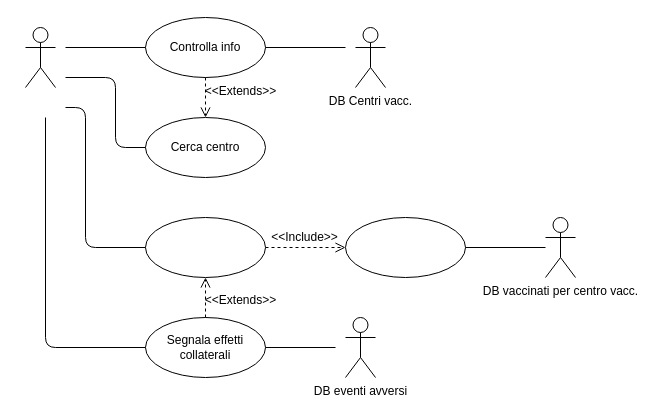
The diagram is 655 pixels wide and 416 high, and some of its shapes have lost their labels. The shapes that lost their labels are listed below. From the top down, each one's centre as x and y in pixels, then its label:
the point at 40,57: Cittadino
the point at 205,247: Accesso/ Registrazione
the point at 405,247: Verifica dati
